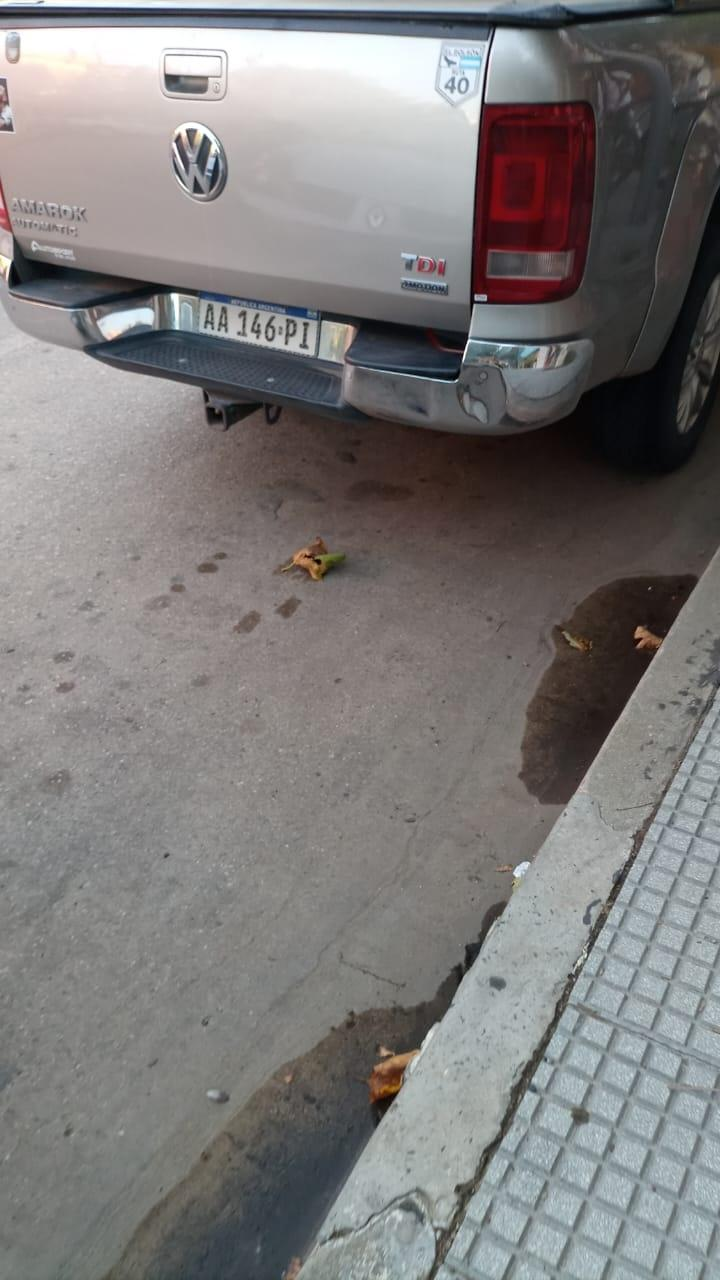matricula: (174, 282, 330, 360)
